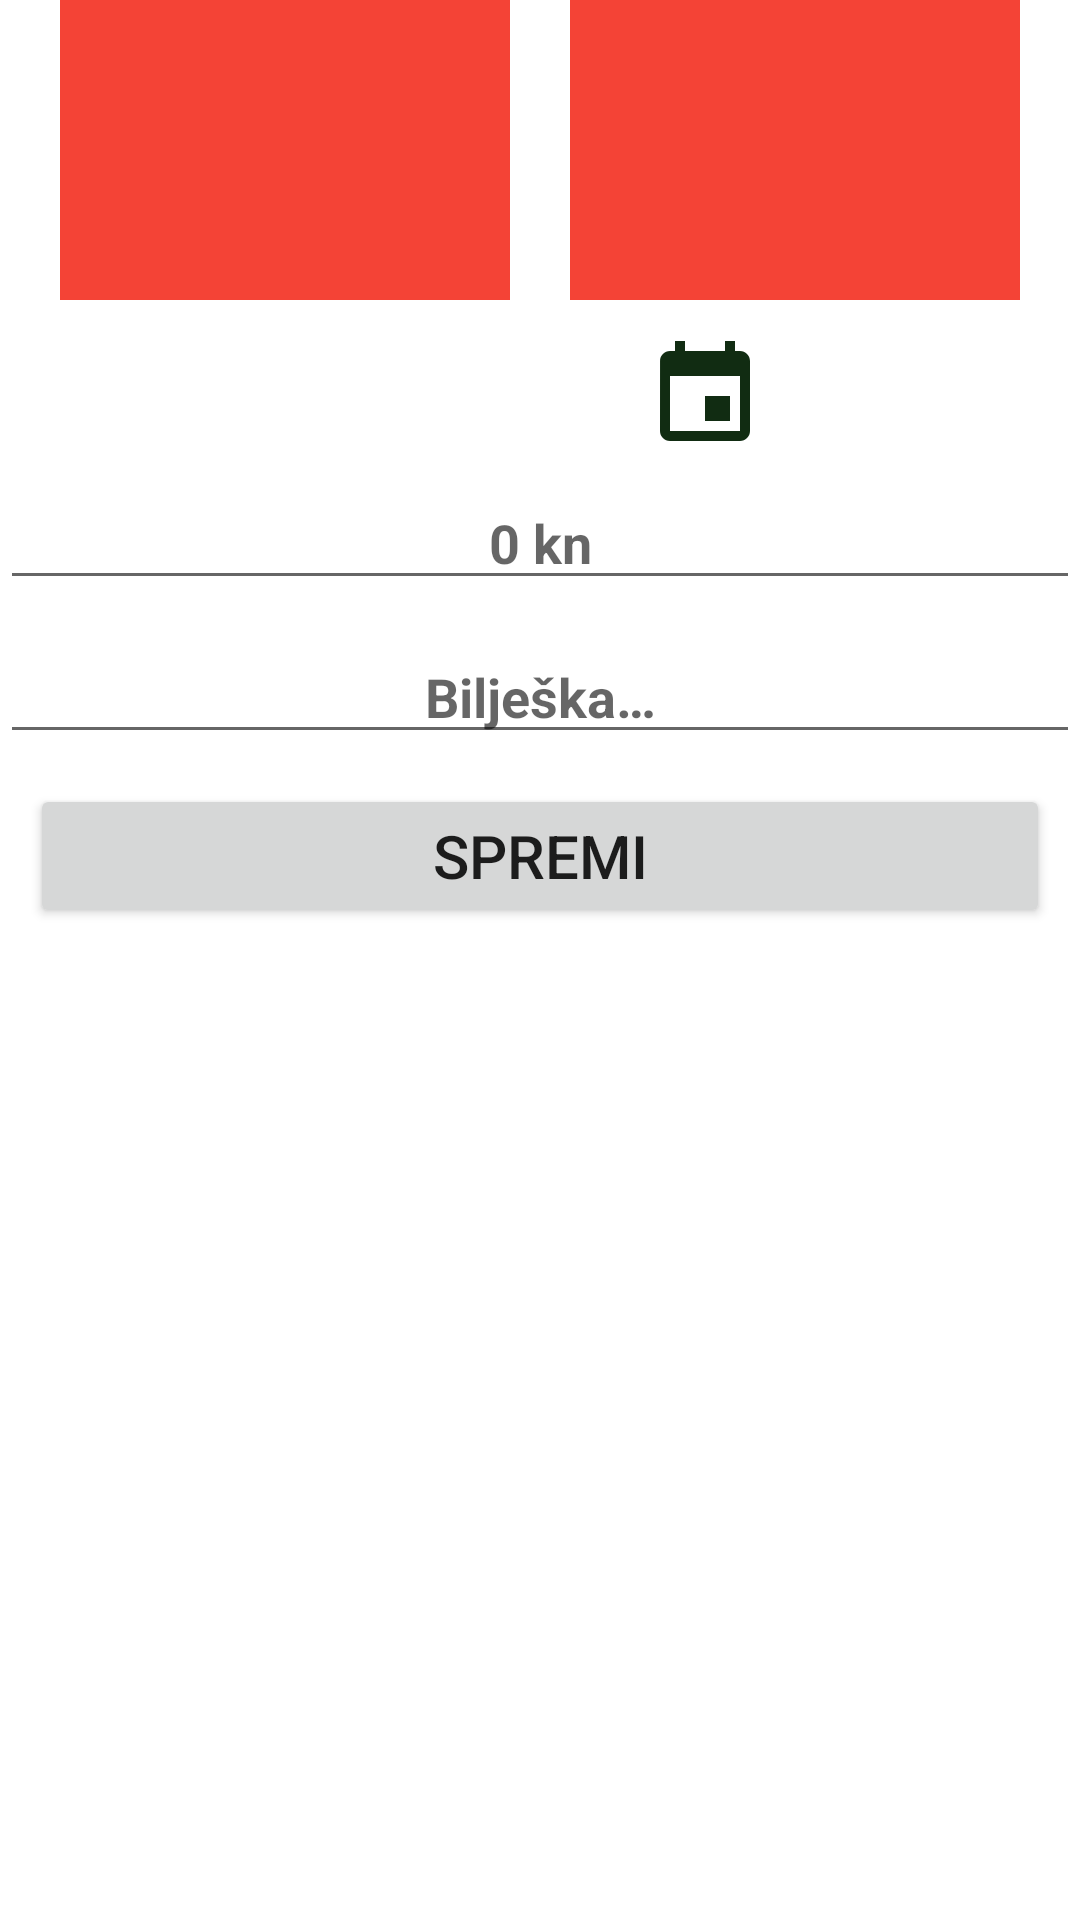

Icons on this 1080*1920 Android screen, each with its box as (x1, y1, x2, y2):
calendar: (660, 341, 750, 441)
